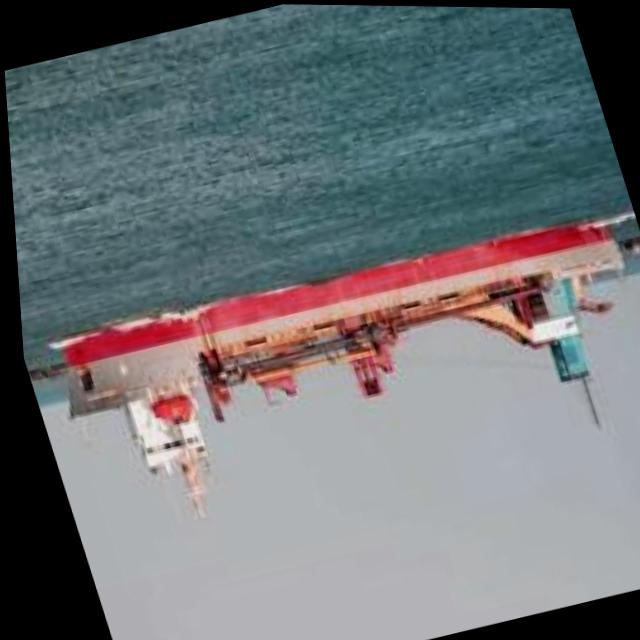ship2: (49, 217, 626, 517)
